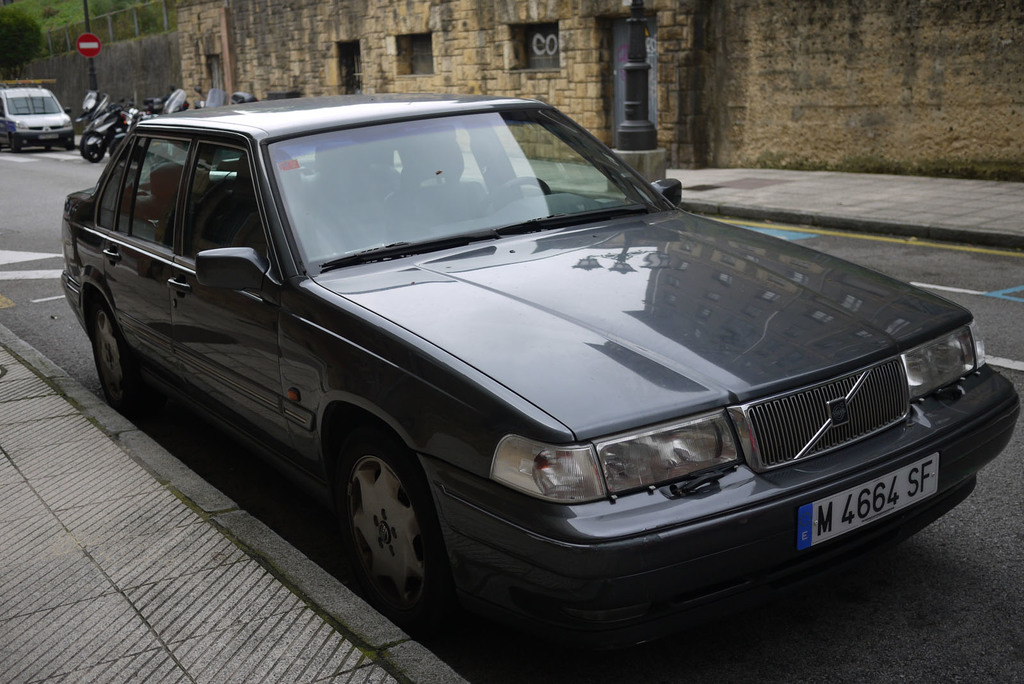Tree: (28, 0, 183, 57), (0, 0, 39, 79)
